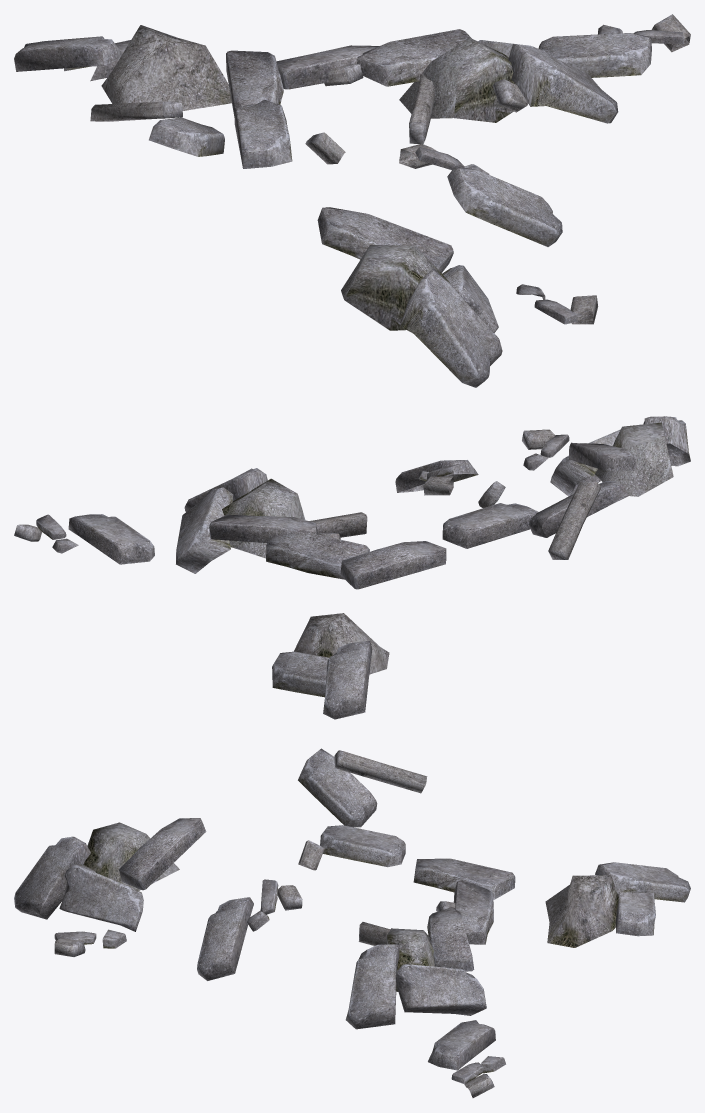
Rendered from SM_PathRocks_01.FBX.
3 views of the same model, one above another, from view 1: azimuth 30°, elevation 25°; view 2: azimuth 150°, elevation 25°; view 3: azimuth 270°, elevation 25° (orthographic). The views are drawn at different scales.
Visible parts, largest first — view 1: SM_PathRocks_01; view 2: SM_PathRocks_01; view 3: SM_PathRocks_01.
Boxes of the visible parts, <box> form: SM_PathRocks_01: <box>14,14,690,387</box>; SM_PathRocks_01: <box>14,416,690,719</box>; SM_PathRocks_01: <box>14,748,690,1097</box>.
Bounding box in the file's own units: 507 × 603 × 120.
